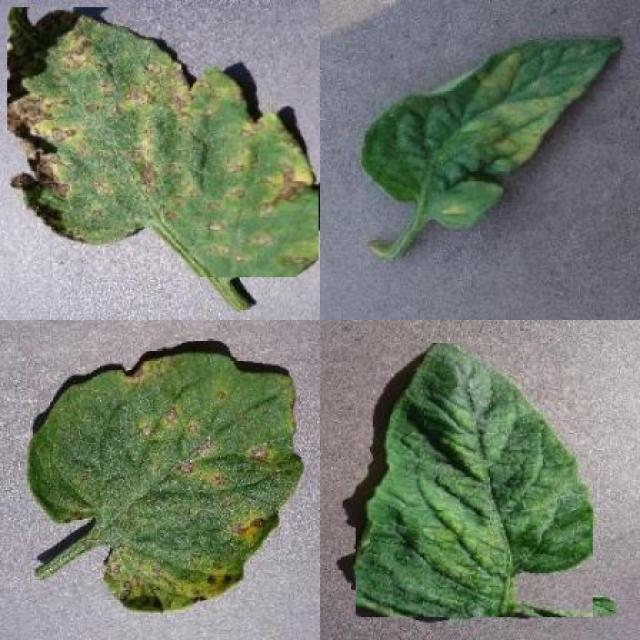Leaf Mold: (361, 37, 620, 232)
Septoria: (7, 7, 319, 277), (27, 349, 304, 614)
Spider Mites: (356, 342, 593, 618)
